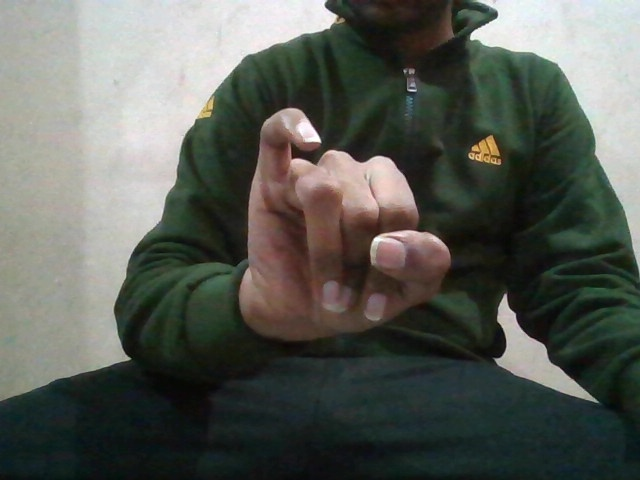J: (245, 105, 447, 337)
